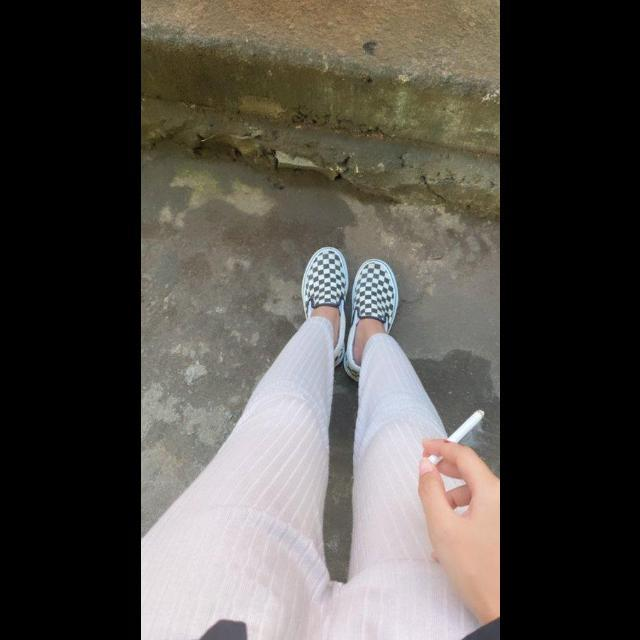rokok: (427, 407, 485, 468)
